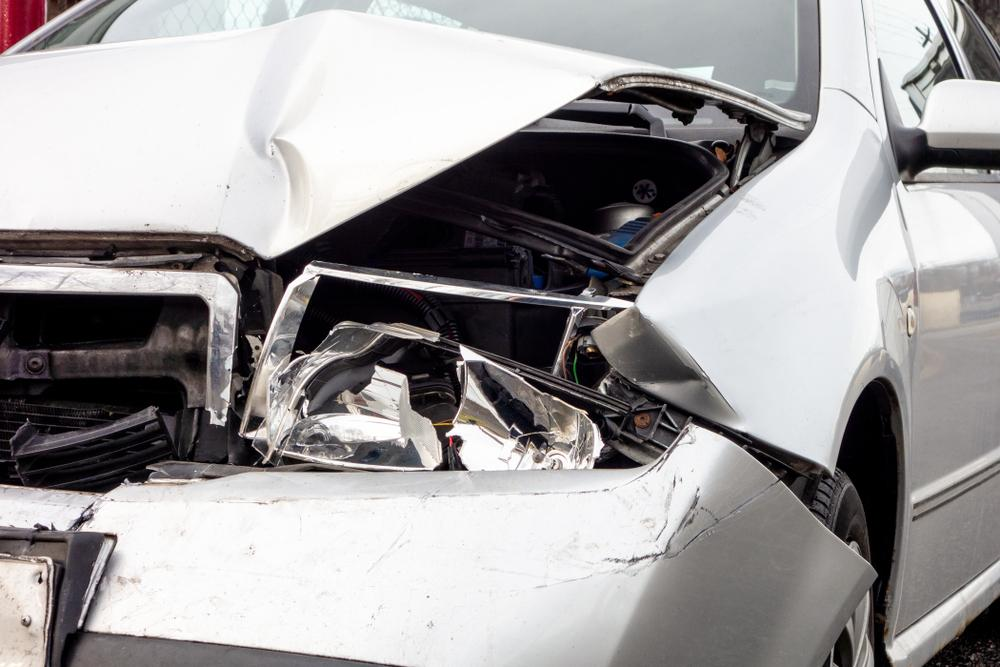dent: (613, 309, 744, 431), (238, 128, 312, 253)
lamp broken: (266, 282, 657, 471)
scratch: (538, 431, 748, 584)
